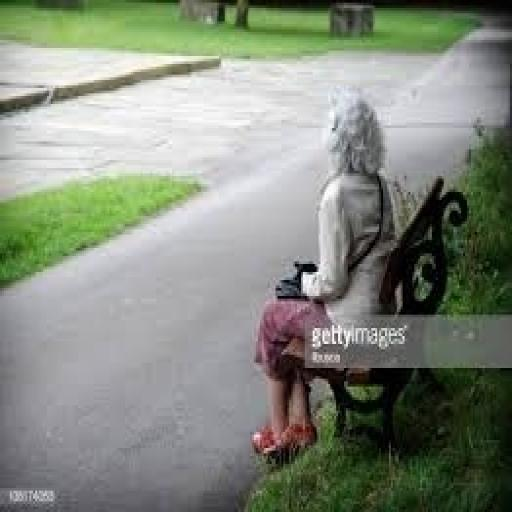sitting: (248, 83, 401, 461)
